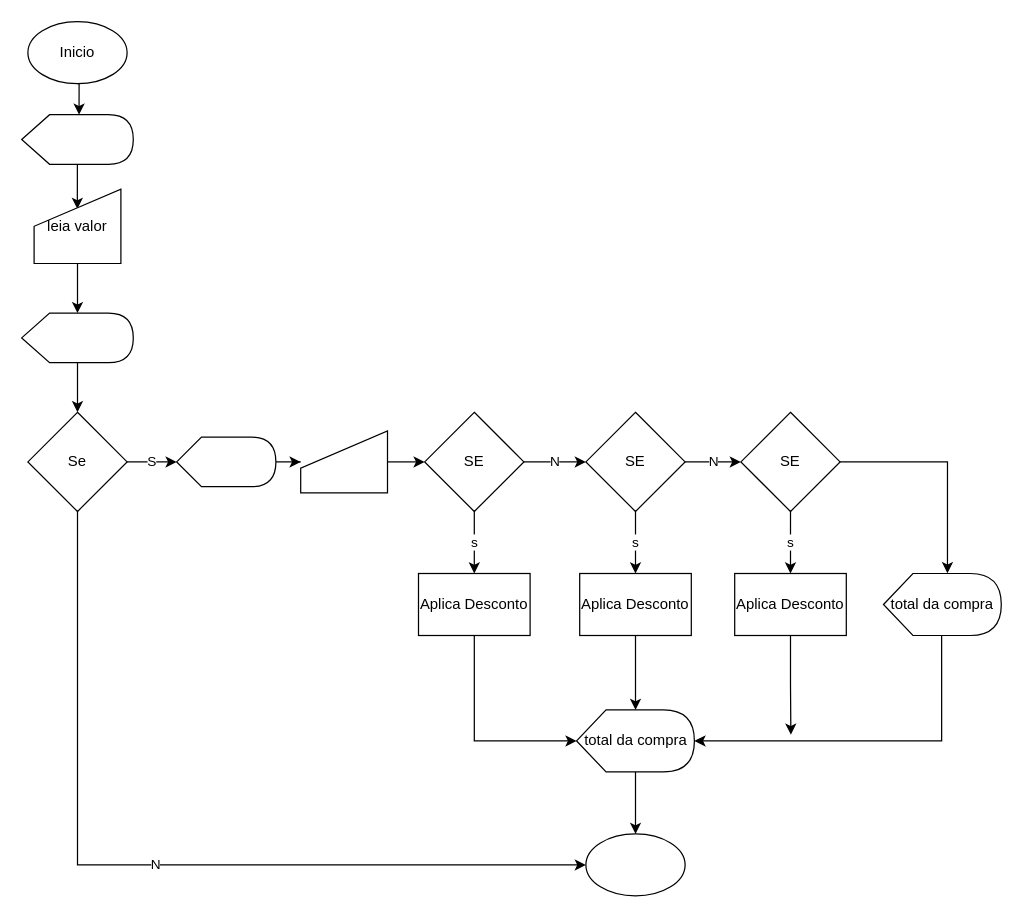
Some shapes in this 1023 by 918 pixel diagram are drawn without their labels. The shapes that lost their labels are listed below. From the top down, each one's box as (x1, y1, x2, y2) in pixels, then its label:
(20, 113, 133, 164): Insira o valor da compra
(20, 312, 133, 363): Você tem algum cupom
(175, 436, 276, 487): Insira o Cupom
(299, 430, 388, 493): Leia cupom
(585, 833, 685, 896): fim
